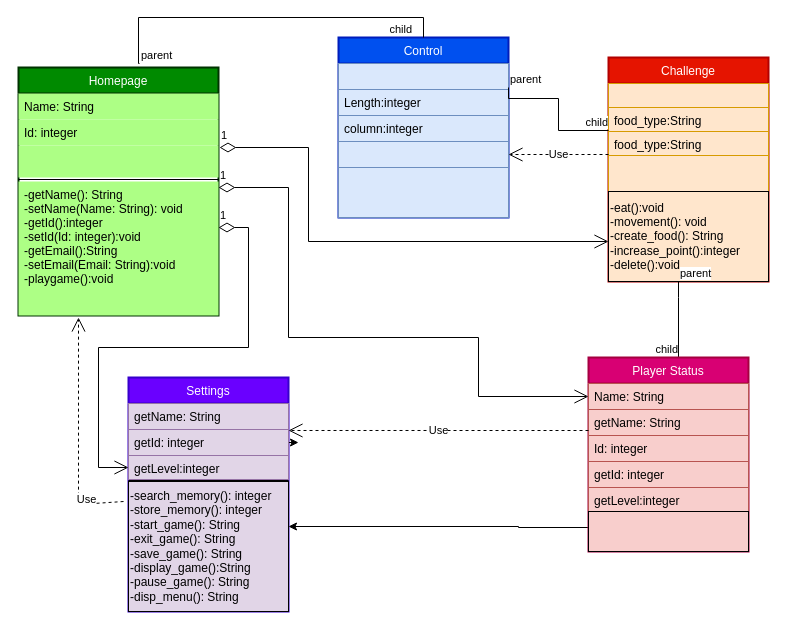
Some shapes in this 786 by 630 pixel diagram are drawn without their labels. Here are the shapes that lost their labels. From the top down, the centre of each, then its label:
At pixel 423 76: "size:integer".
At pixel 688 95: "amount_rat: integer".
At pixel 118 161: "Email: String".
At pixel 423 154: "Level:integer".
At pixel 688 173: "food_point: integer".
At pixel 423 192: "-view_game(): String -view_score(): integer".
At pixel 668 531: "-win():String -lose():String".
